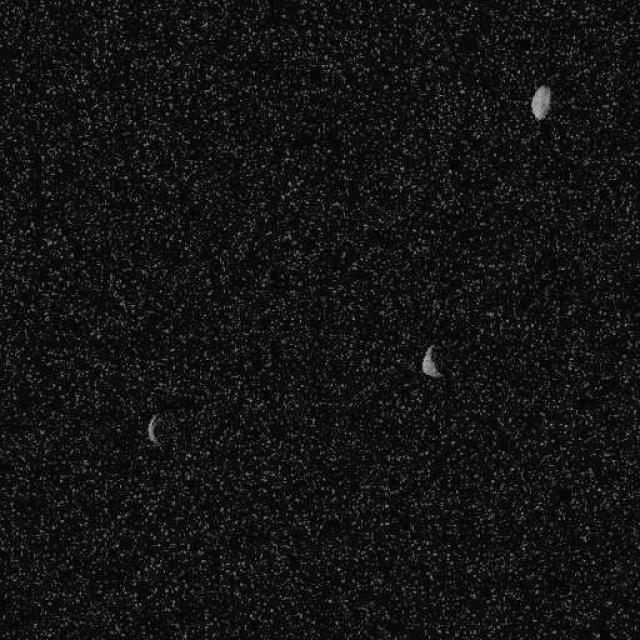D2: (420, 342, 444, 378), (529, 84, 551, 120), (145, 412, 161, 446)
